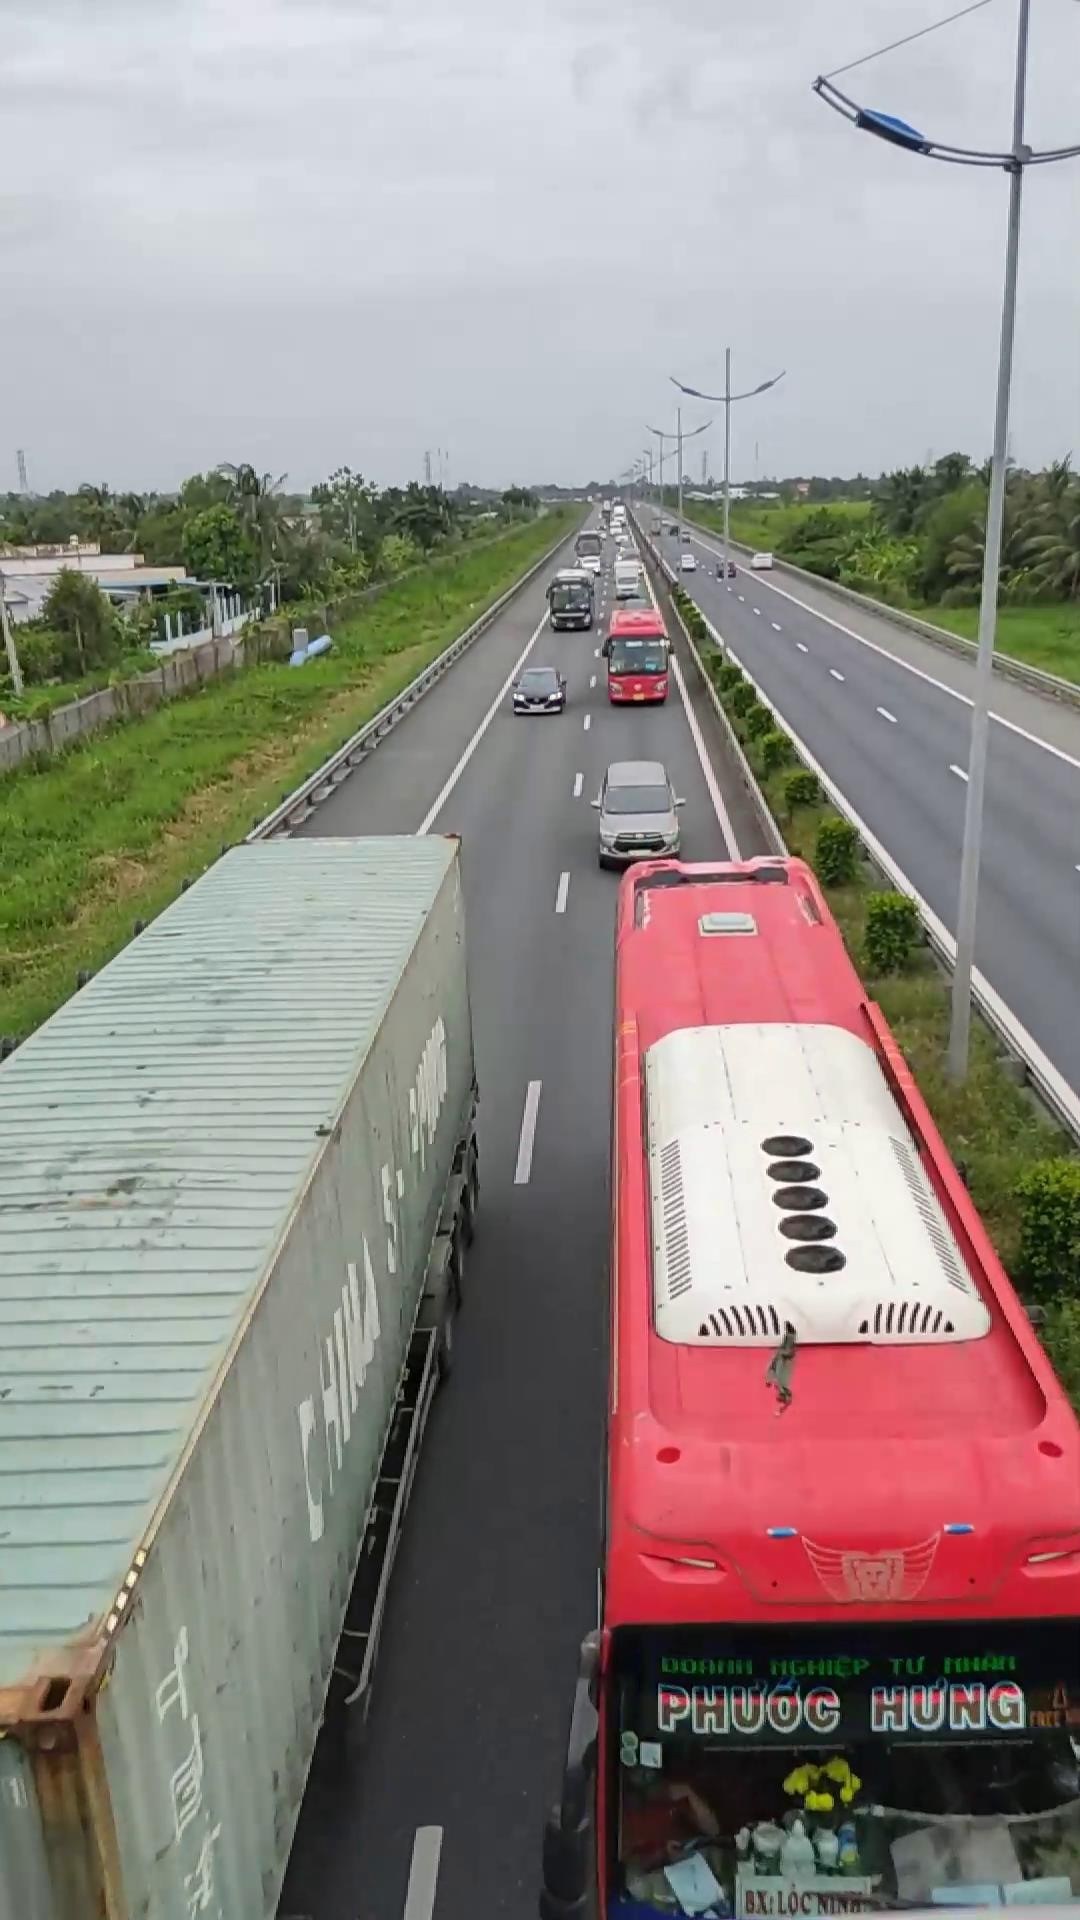bus: (603, 849, 1078, 1837)
car: (592, 763, 684, 869)
container: (0, 833, 475, 1916)
